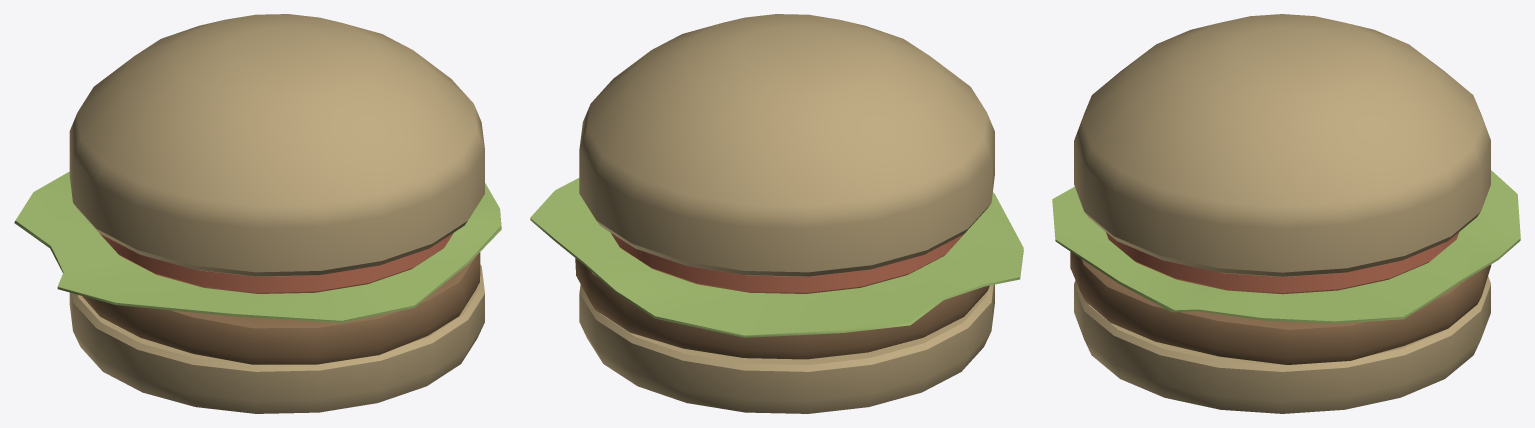
The model's file is burger.fbx.
3 views of the same model, side by side, from view 1: azimuth 30°, elevation 25°; view 2: azimuth 150°, elevation 25°; view 3: azimuth 270°, elevation 25° (orthographic).
Visible parts, largest first — view 1: top_bun, bottom_bun, lettuce, patty, tomato; view 2: top_bun, lettuce, bottom_bun, patty, tomato; view 3: top_bun, bottom_bun, lettuce, patty, tomato.
Part boxes in pixels (x1,y1,x2,y2): top_bun: [69, 14, 484, 276]; bottom_bun: [69, 264, 484, 413]; lettuce: [14, 171, 501, 323]; patty: [82, 252, 480, 364]; tomato: [100, 233, 453, 293]; top_bun: [579, 14, 994, 276]; lettuce: [530, 178, 1023, 337]; bottom_bun: [579, 284, 994, 413]; patty: [575, 258, 989, 359]; tomato: [611, 232, 965, 293]; top_bun: [1074, 14, 1490, 276]; bottom_bun: [1074, 276, 1490, 413]; lettuce: [1052, 170, 1520, 323]; patty: [1070, 251, 1491, 364]; tomato: [1106, 232, 1459, 294].
Size of the model in its own units: 0.2389 by 0.1514 by 0.2247.
